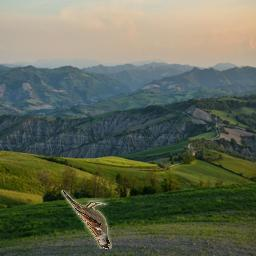Sparrow: (62, 191, 113, 250)
